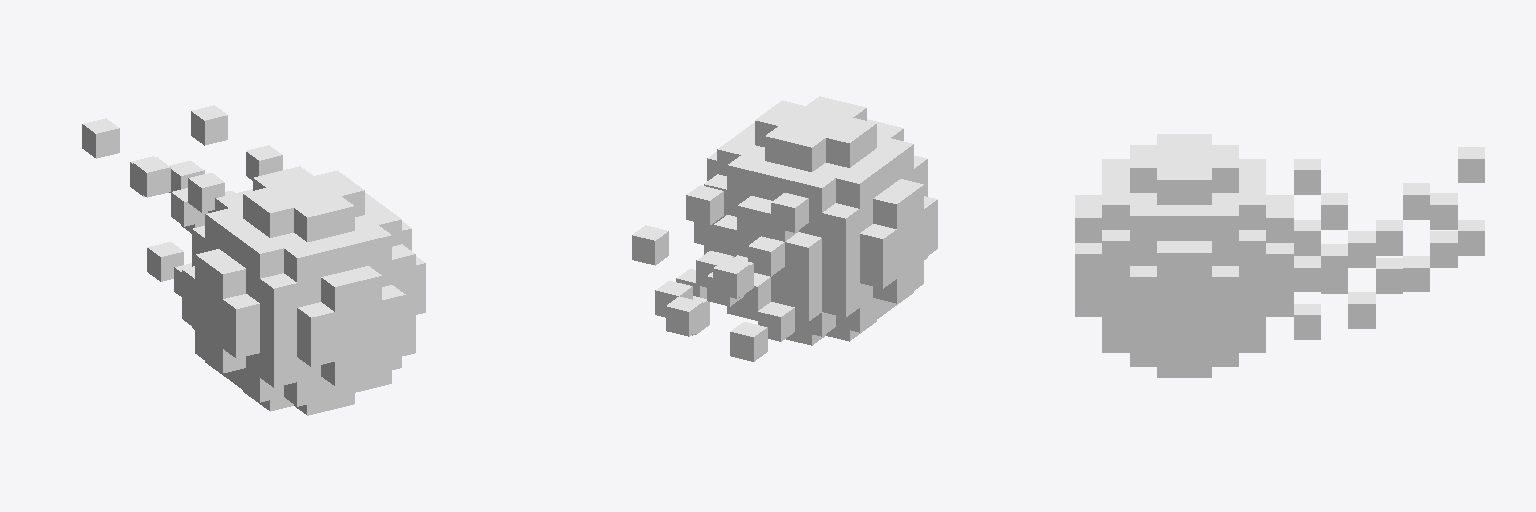
Rendered from BolaFuego-4.obj.
3 views of the same model, side by side, from view 1: azimuth 30°, elevation 25°; view 2: azimuth 150°, elevation 25°; view 3: azimuth 270°, elevation 25° (orthographic).
Parts seen in each view (by area): view 1: object 1; view 2: object 1; view 3: object 1.
Boxes of the visible parts, box(x1,y1,x2,y2) form: object 1: box(82, 105, 425, 415); object 1: box(632, 96, 937, 361); object 1: box(1075, 134, 1484, 377).
Bounding box in the file's own units: 0.8 × 0.8 × 1.5.